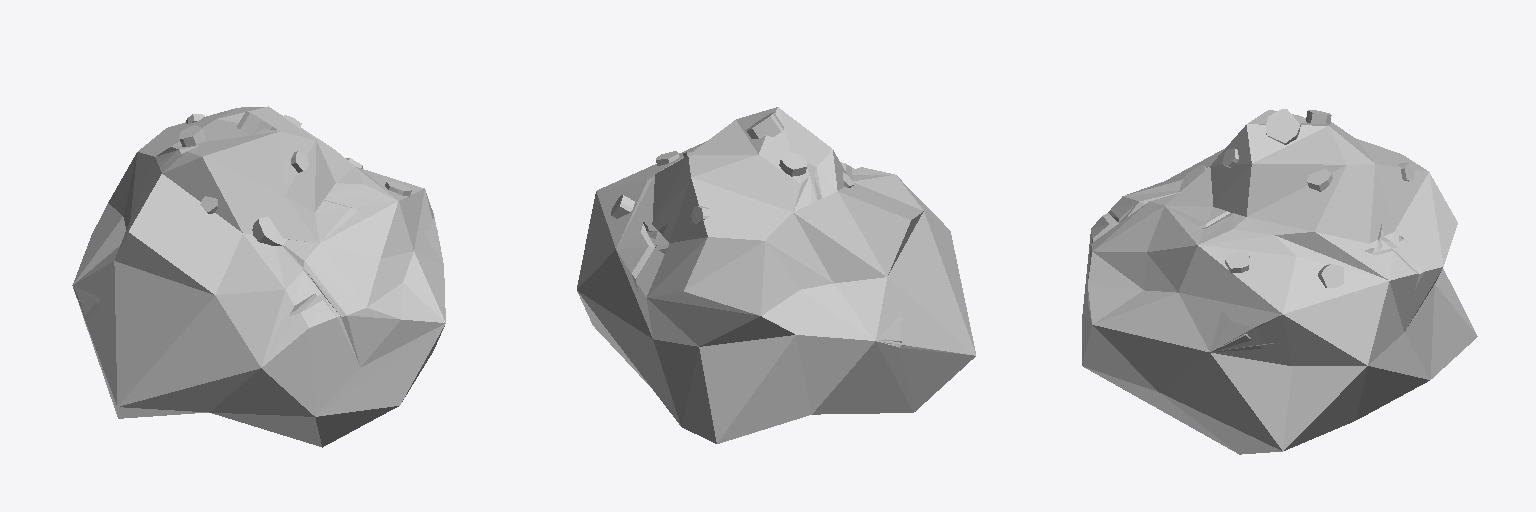
File: PointyCookieRock.obj
The picture shows the model from 3 angles: view 1: azimuth 30°, elevation 25°; view 2: azimuth 150°, elevation 25°; view 3: azimuth 270°, elevation 25°; orthographic projection.
Parts seen in each view (by area): view 1: Cookie, Chunks; view 2: Cookie, Chunks; view 3: Cookie, Chunks.
Boxes of the visible parts, x1=… form: Cookie: x1=72, y1=106, x2=445, y2=447; Chunks: x1=179, y1=111, x2=411, y2=245; Cookie: x1=577, y1=107, x2=975, y2=443; Chunks: x1=611, y1=112, x2=853, y2=224; Cookie: x1=1082, y1=110, x2=1477, y2=454; Chunks: x1=1179, y1=109, x2=1414, y2=287.
Bounding box in the file's own units: 1.37 × 1.09 × 1.35.